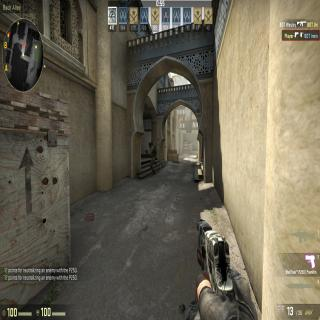CT-Body: (147, 141, 156, 176)
CT-Head: (148, 141, 152, 148)
